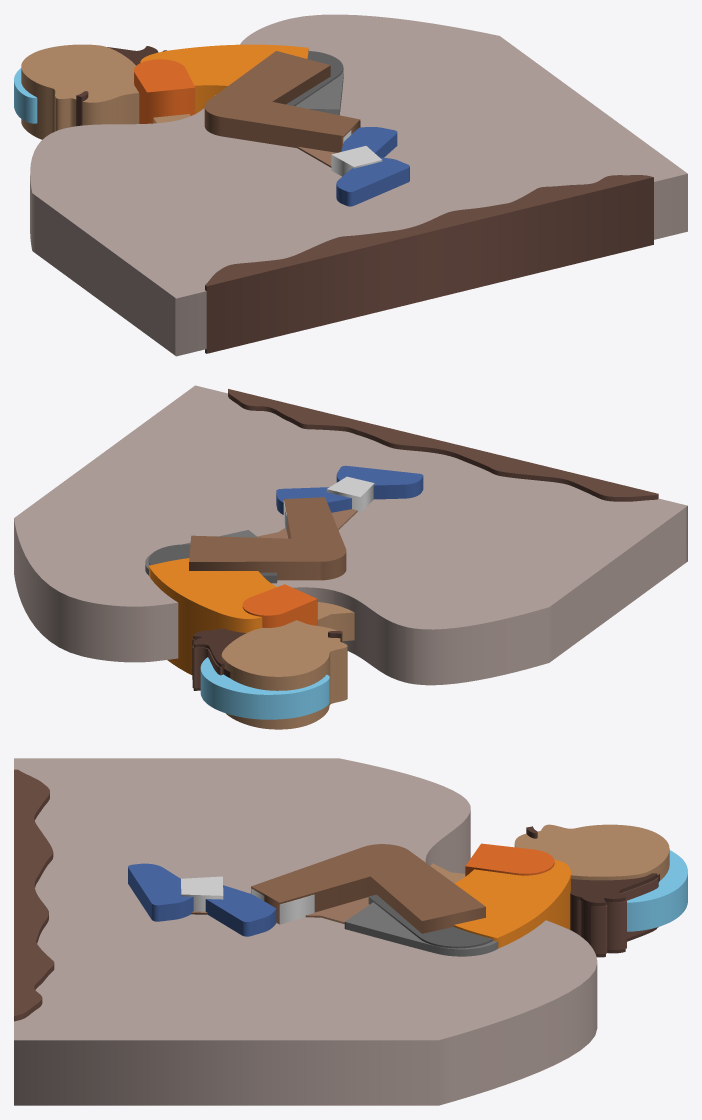
Rendered from emoji_u1f6b5_1f3fd.glb.
3 views of the same model, one above another, from view 1: azimuth 30°, elevation 25°; view 2: azimuth 150°, elevation 25°; view 3: azimuth 270°, elevation 25° (orthographic). The views are drawn at different scales.
Parts seen in each view (by area): view 1: emoji_u1f6b5_1f3fd; view 2: emoji_u1f6b5_1f3fd; view 3: emoji_u1f6b5_1f3fd.
Boxes of the visible parts, left/top/right/bottom form: emoji_u1f6b5_1f3fd: left=14, top=14, right=687, bottom=356; emoji_u1f6b5_1f3fd: left=14, top=385, right=687, bottom=729; emoji_u1f6b5_1f3fd: left=14, top=758, right=687, bottom=1105.
Bounding box in the file's own units: 0.0333 × 0.006 × 0.0336.
